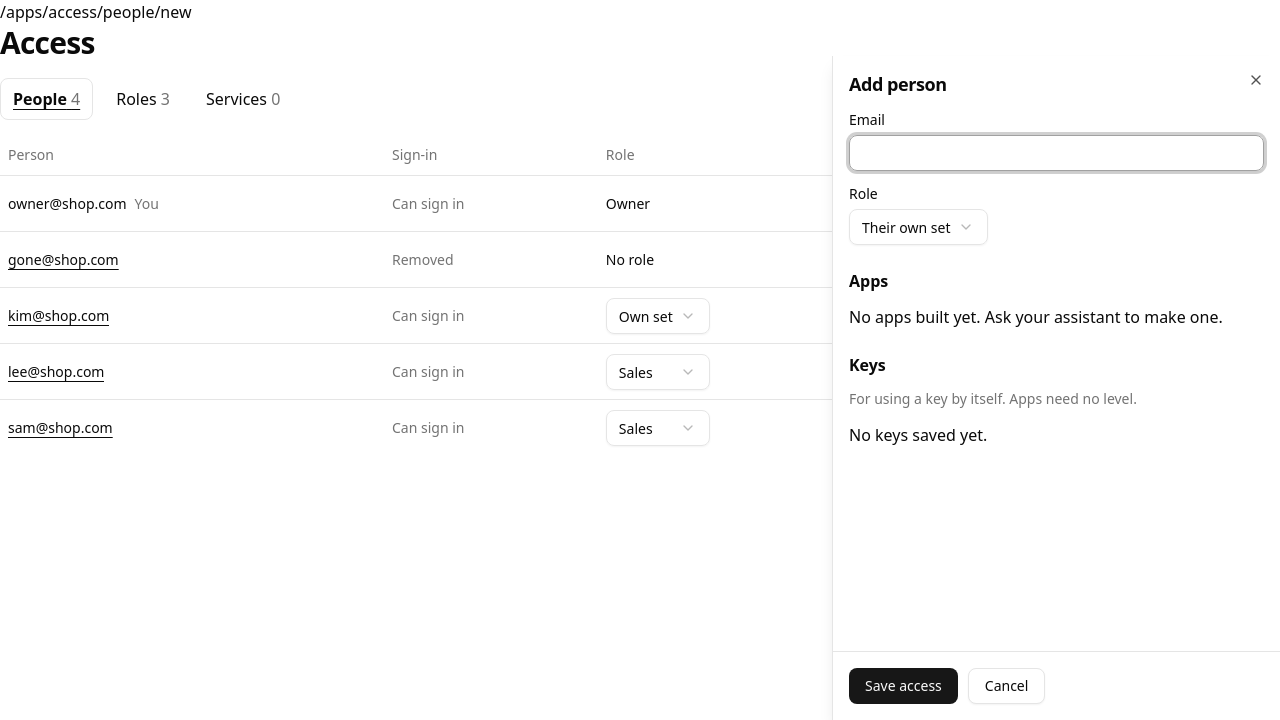
it: says so when there is no app or key to give yet
Expected: the text "No apps built yet. Ask your assistant to make one." is shown, [849, 305, 1264, 329]
Expected: the text "No keys saved yet." is shown, [849, 424, 987, 446]
Type "new@shop.com" into the field labelled "Email".
click(1056, 153); type("new@shop.com")  # box [849, 135, 1264, 171]
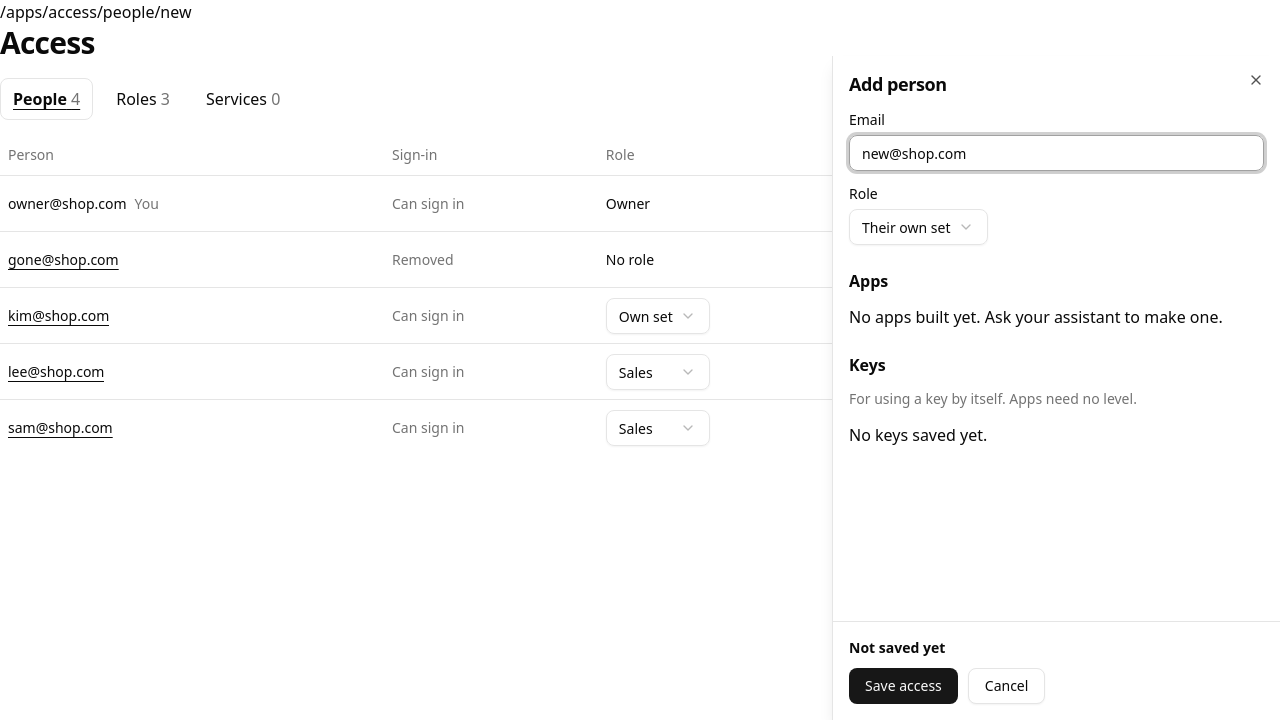
Click the button "Save access".
click(903, 686)  # box [849, 668, 958, 704]
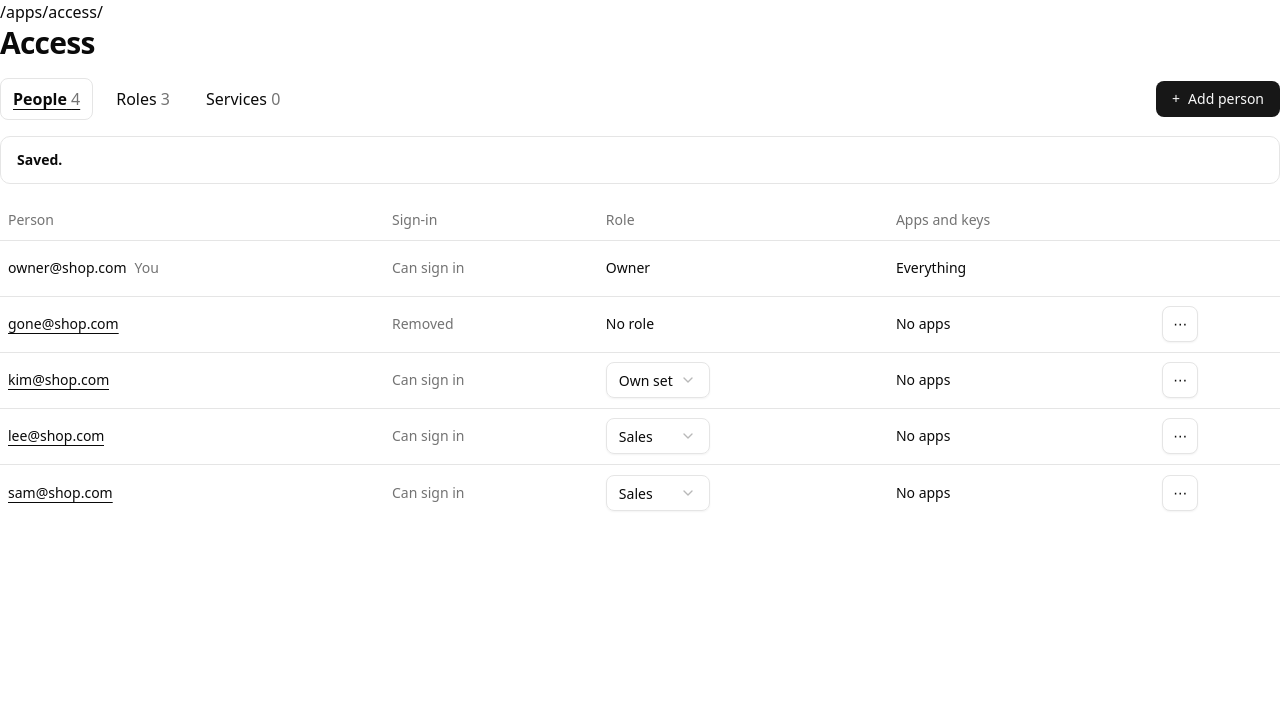
Expected: the text "Saved." is shown, [17, 150, 62, 168]
